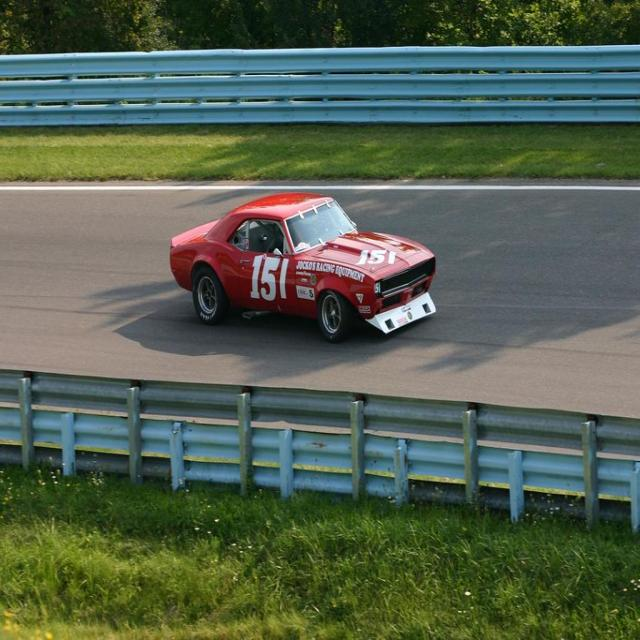car: (168, 189, 436, 342)
